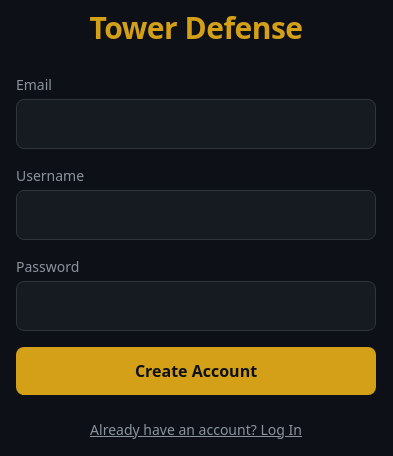
it: Register › disables the submit button while registration is in flight
This screenshot has width=393, height=456.
Type "bob@example.com" into the field labelled "Email".
click(196, 124); type("bob@example.com")  # box [16,98,376,148]
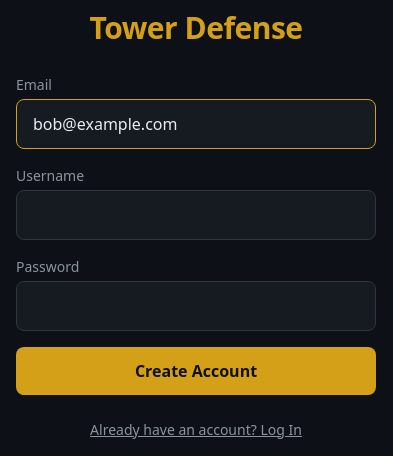
Type "bob99" into the field labelled "Username".
click(196, 214); type("bob99")  # box [16,190,376,240]
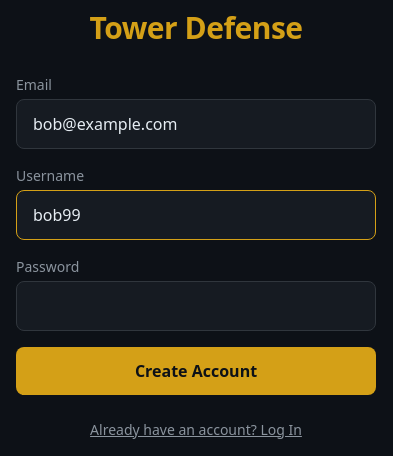
Type "supersecret123" into the password field labelled "Password".
click(196, 306); type("supersecret123")  # box [16,280,376,330]
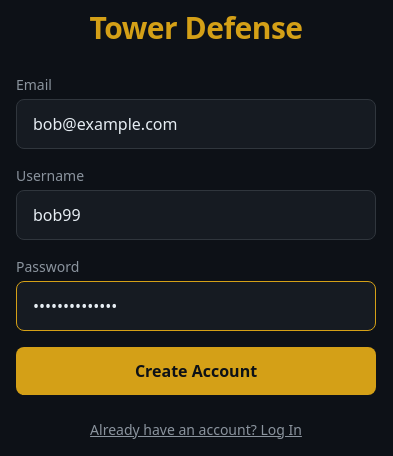
Click the button "Create Account".
click(196, 370)  # box [16,346,376,394]
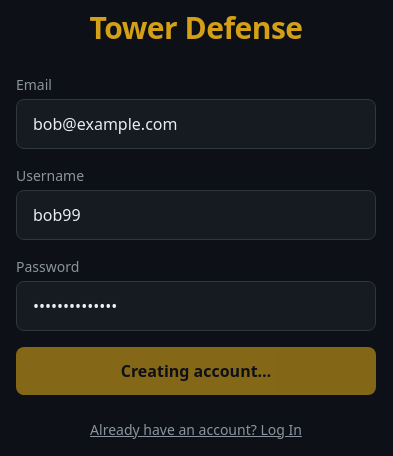
Check: the button "Creating account…" is disabled, box [16,346,376,394]
